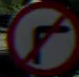Don't turn right: (11, 7, 74, 66)
